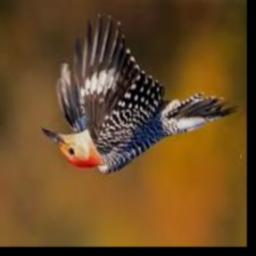Woodpecker: (41, 14, 238, 175)
